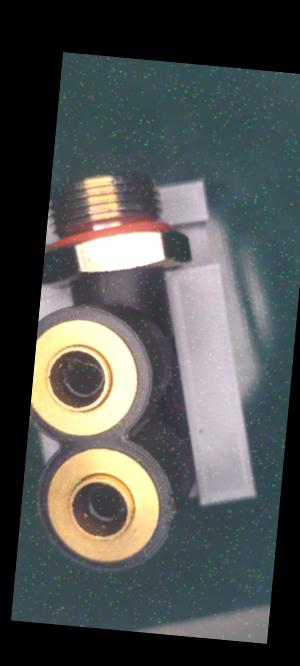bump: (160, 501, 180, 535)
off-centered: (59, 354, 113, 408)
white mark: (97, 275, 114, 291)
